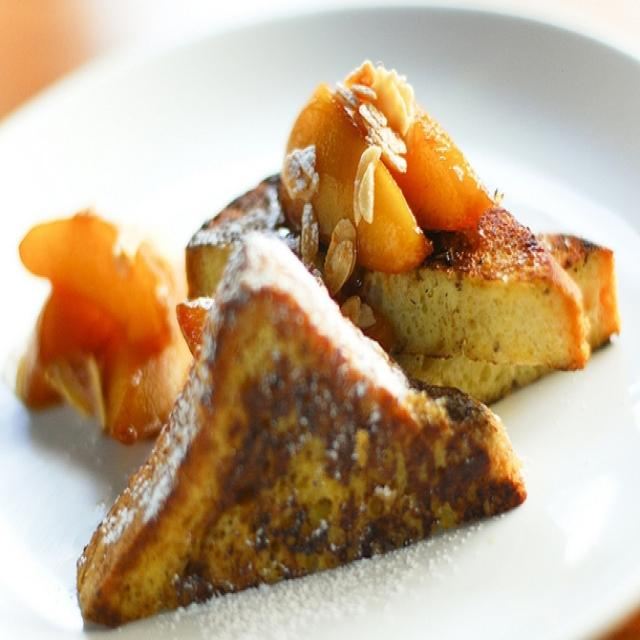面包点心: (21, 34, 625, 629)
